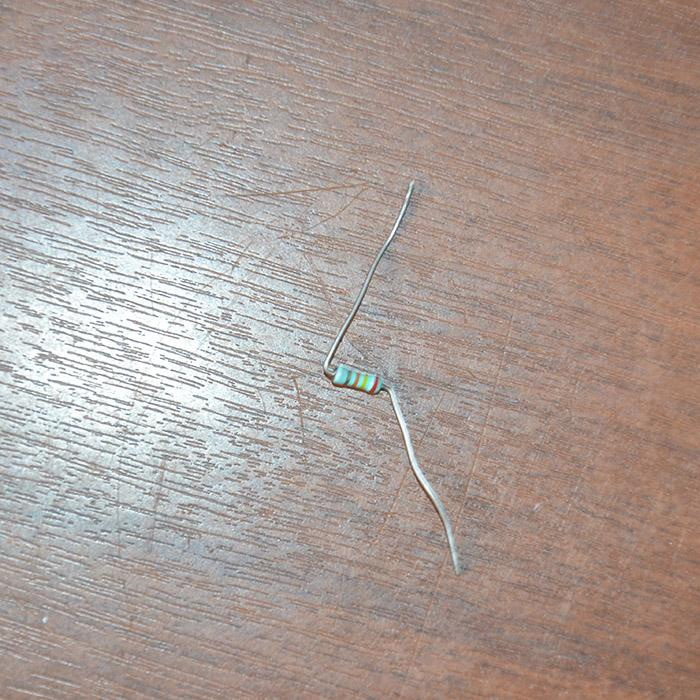resistor: (331, 364, 383, 395)
